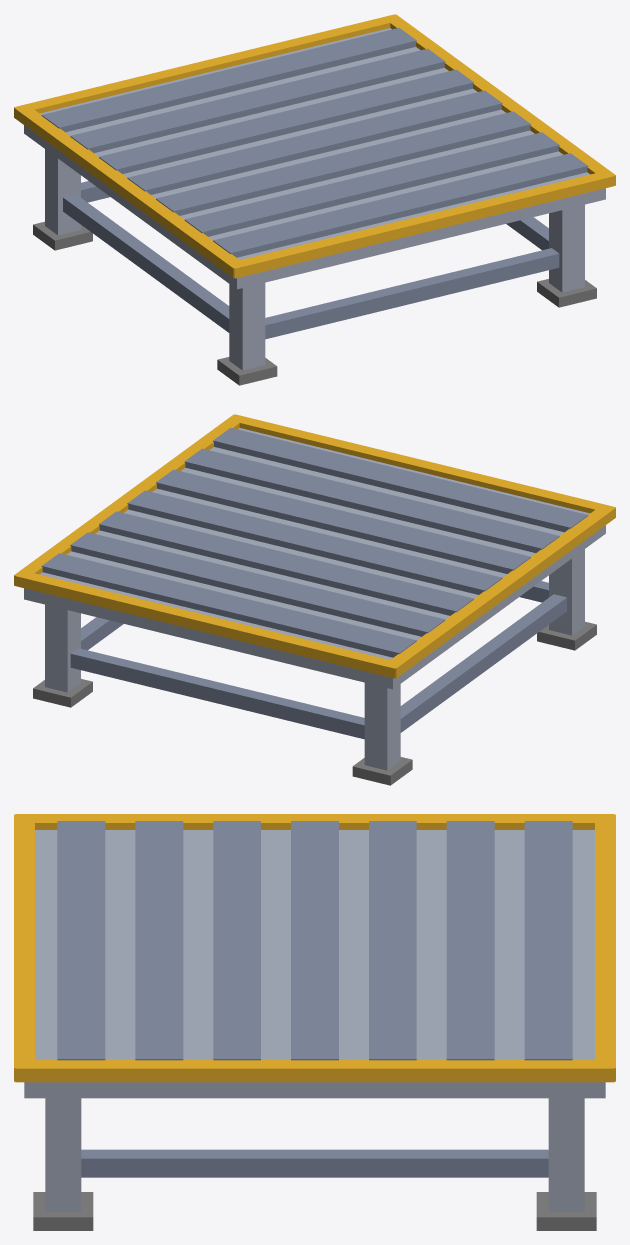
File: platform.glb
The picture shows the model from 3 angles, top to bottom: view 1: azimuth 30°, elevation 25°; view 2: azimuth 150°, elevation 25°; view 3: azimuth 270°, elevation 25°; orthographic projection. The views are drawn at different scales.
Visible parts, largest first — view 1: platform; view 2: platform; view 3: platform.
Boxes of the visible parts, bbox=[...] form: platform: bbox=[14, 14, 615, 385]; platform: bbox=[14, 414, 615, 785]; platform: bbox=[14, 814, 615, 1230].
Bounding box in the file's own units: 2 × 0.63 × 2.
